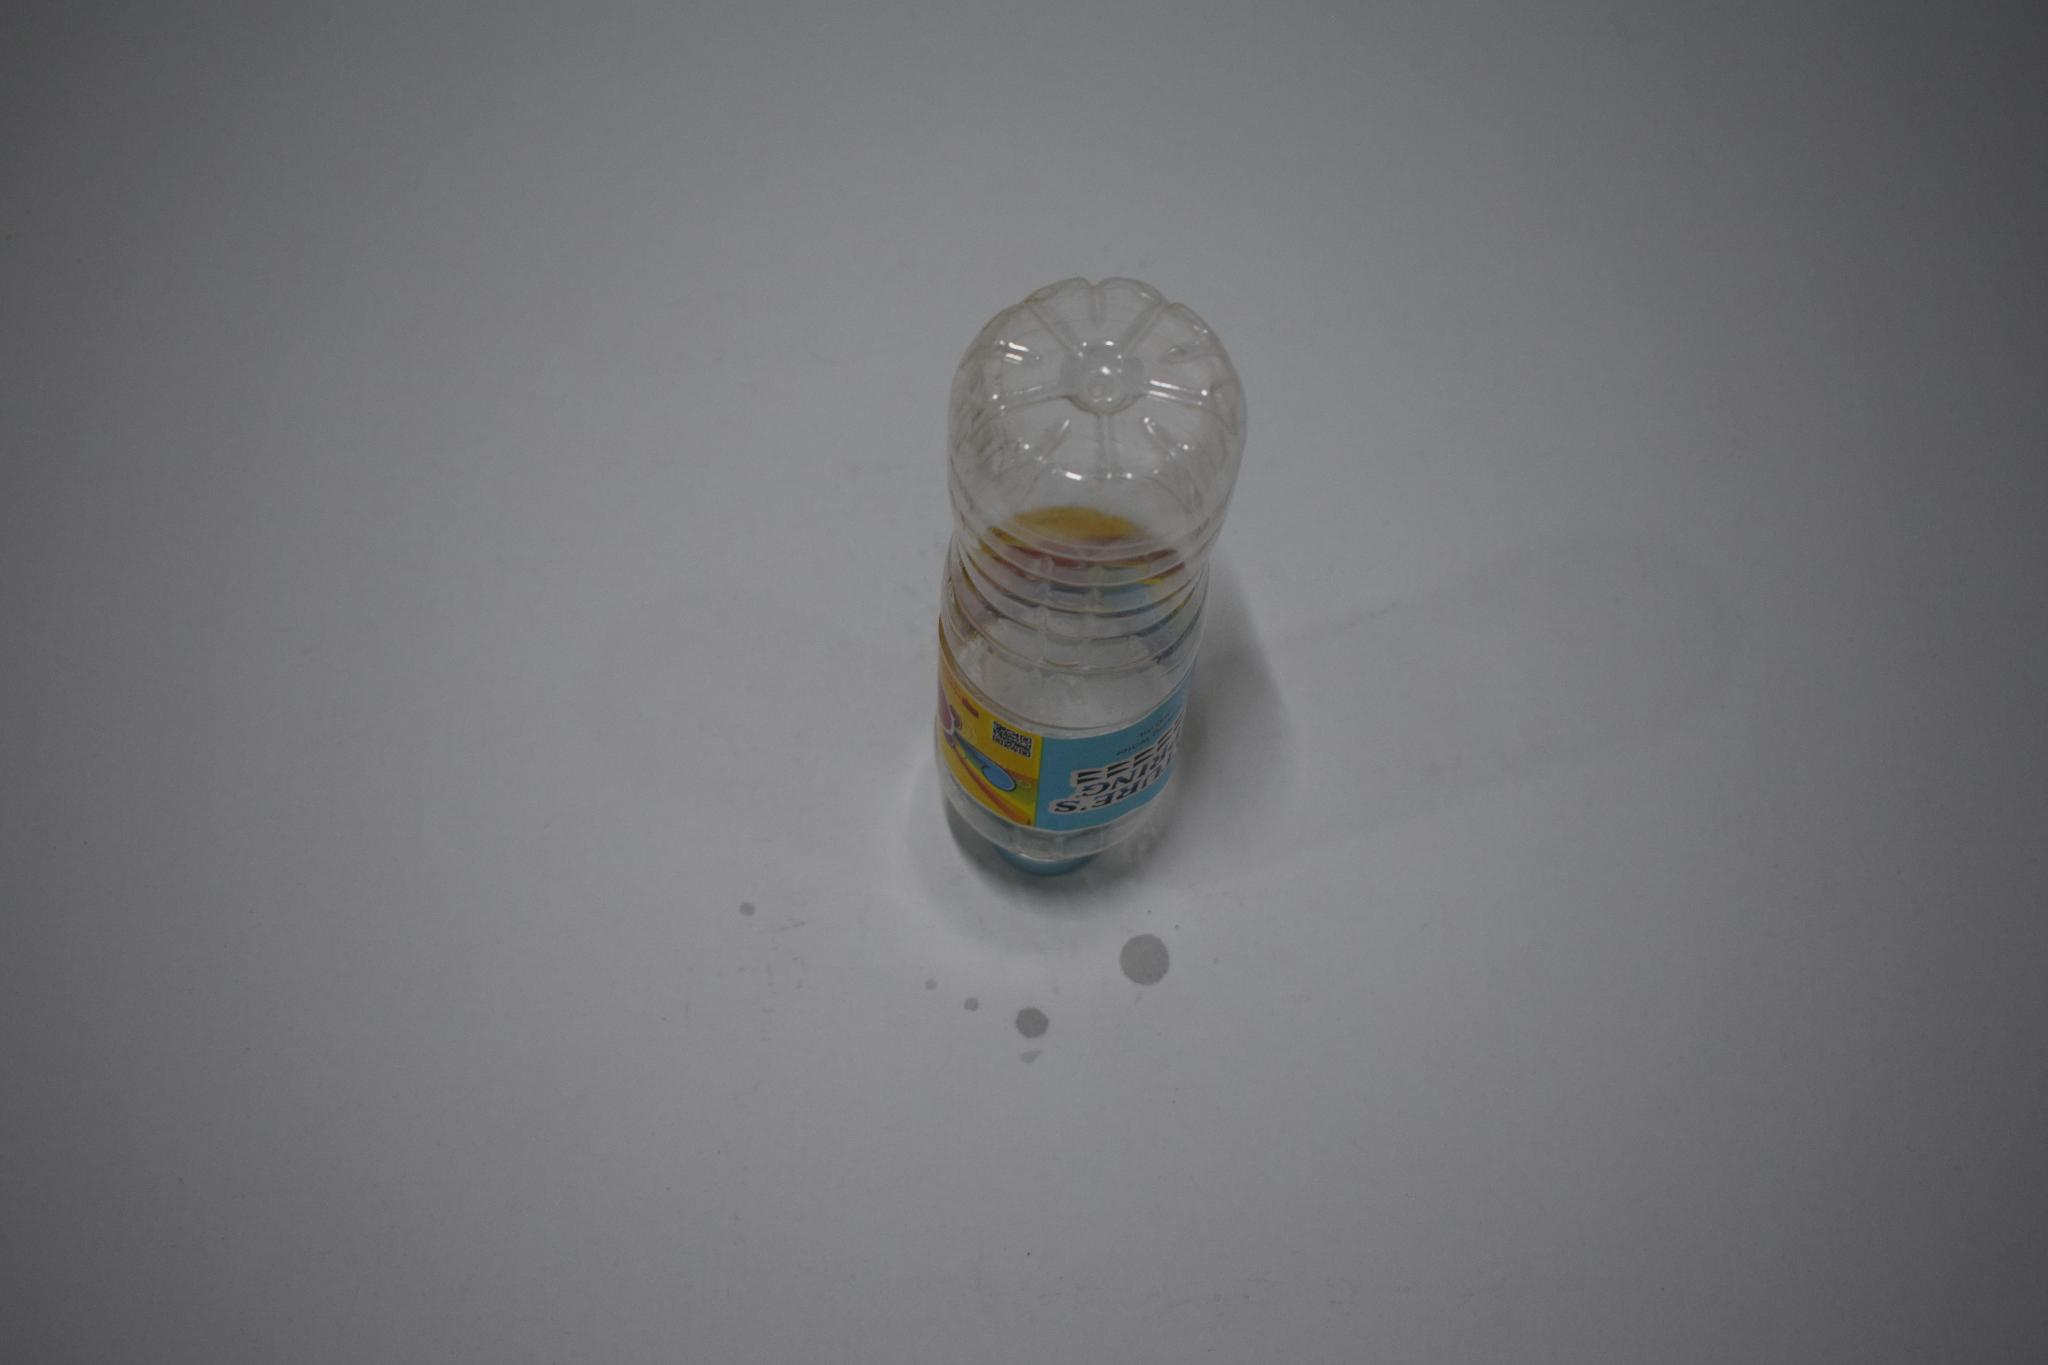bottle: (918, 257, 1254, 909)
